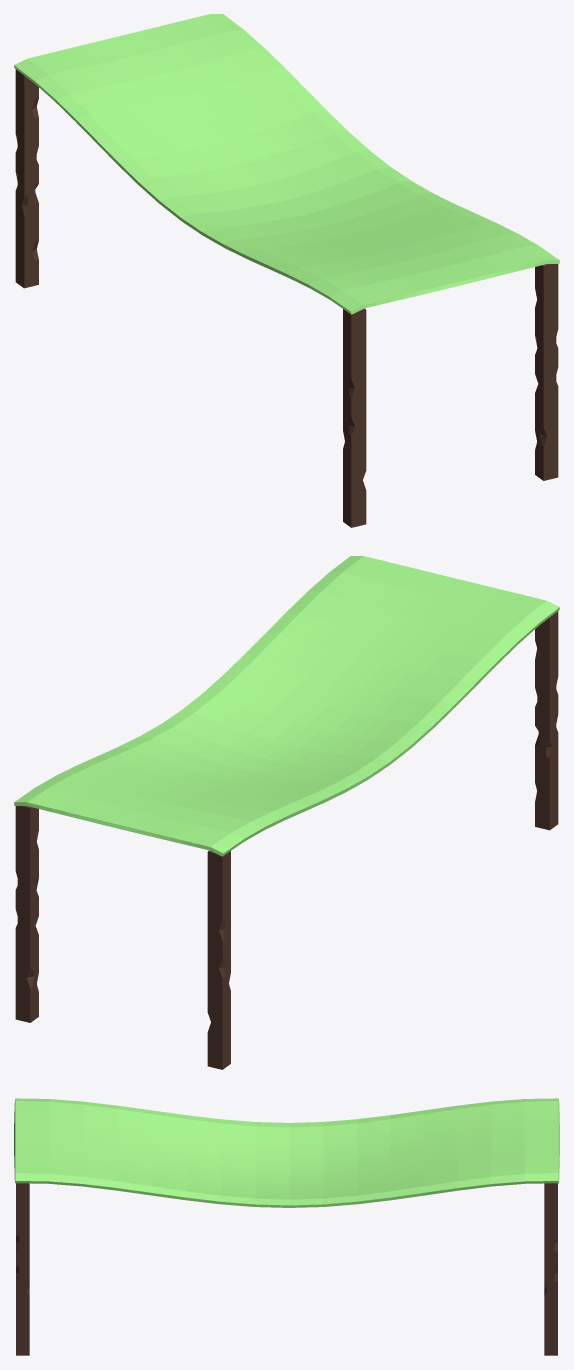
File: Tent.fbx
3 renders of one model, top to bottom at view 1: azimuth 30°, elevation 25°; view 2: azimuth 150°, elevation 25°; view 3: azimuth 270°, elevation 25°, orthographic. The views are drawn at different scales.
Parts seen in each view (by area): view 1: Cube; view 2: Cube; view 3: Cube.
Boxes of the visible parts, left/top/right/bottom form: Cube: left=14, top=14, right=559, bottom=527; Cube: left=14, top=556, right=559, bottom=1069; Cube: left=14, top=1098, right=559, bottom=1355.
Size of the model in its own units: 200 by 201 by 560.
